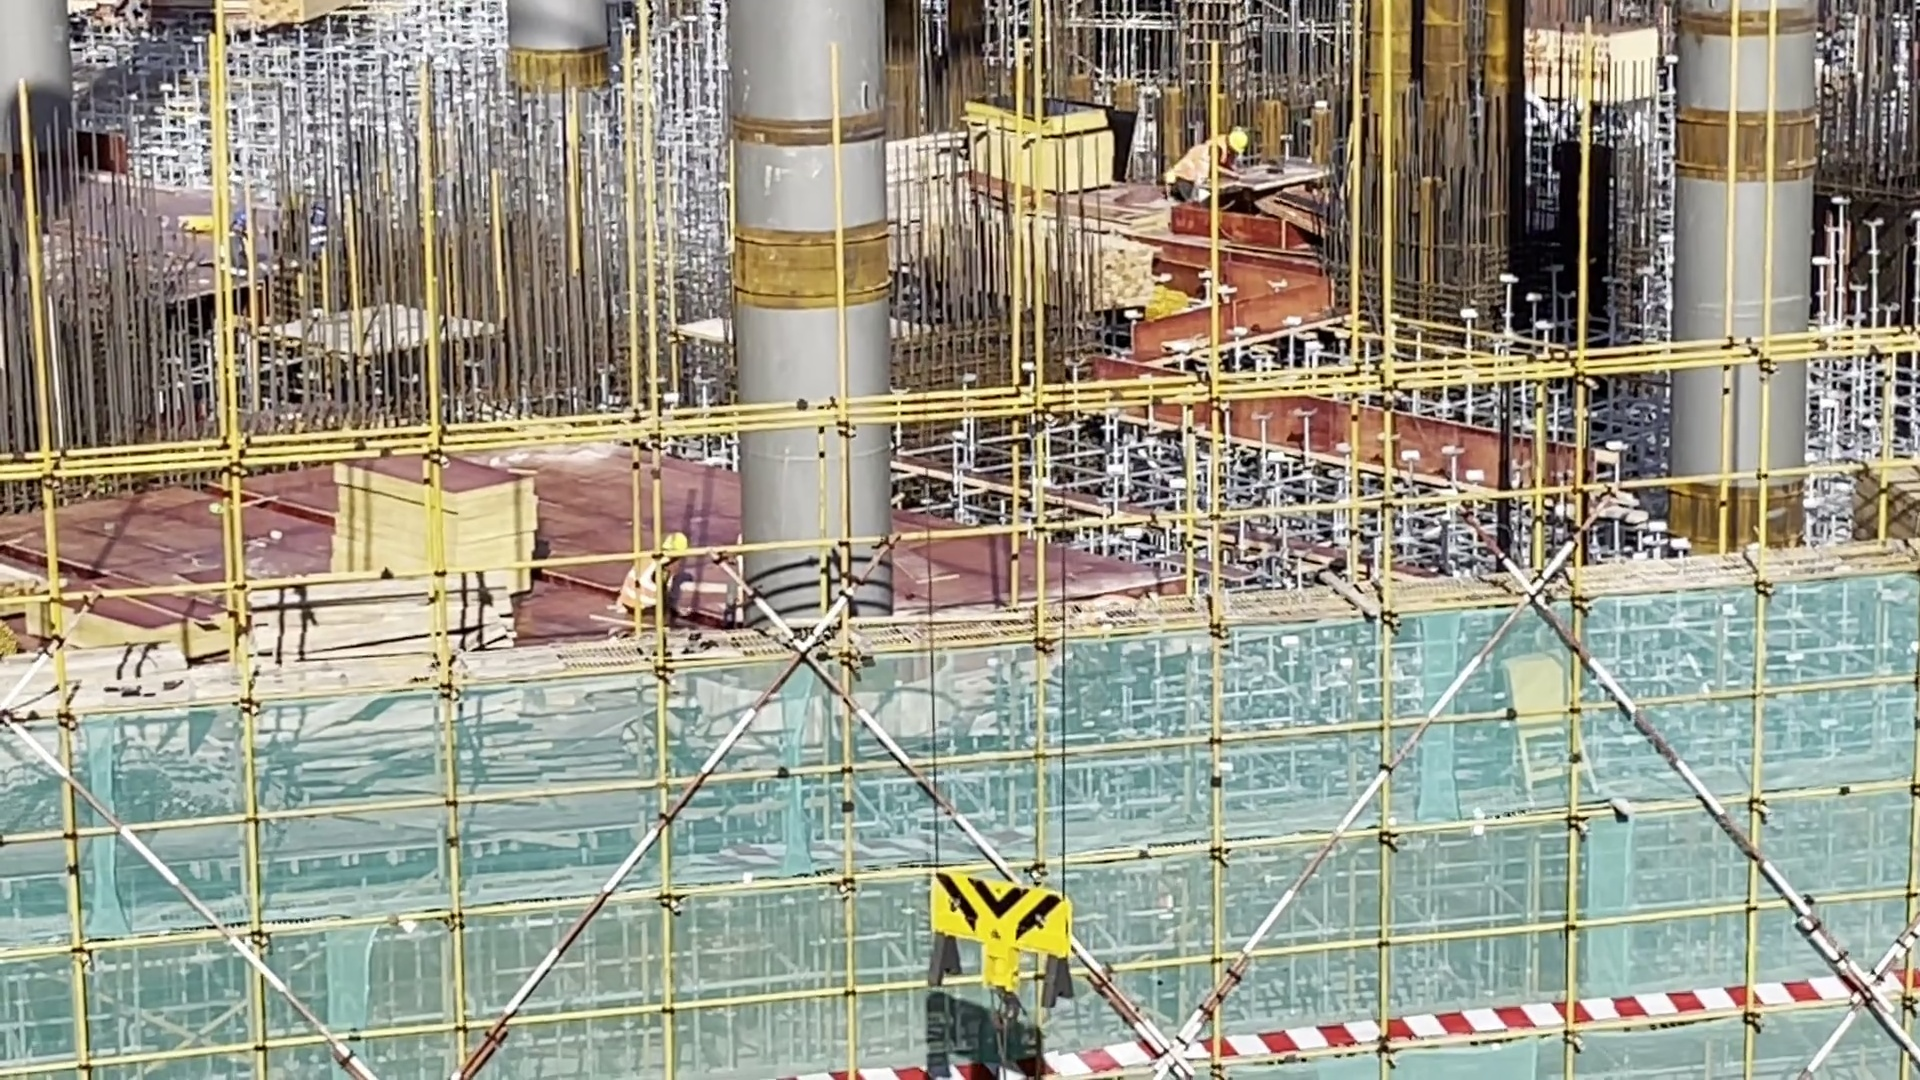board: (331, 454, 538, 597)
hook: (927, 868, 1069, 1020)
person: (613, 531, 698, 631), (1166, 124, 1248, 211)
vest: (623, 550, 668, 608)
wood: (1839, 454, 1920, 551)
